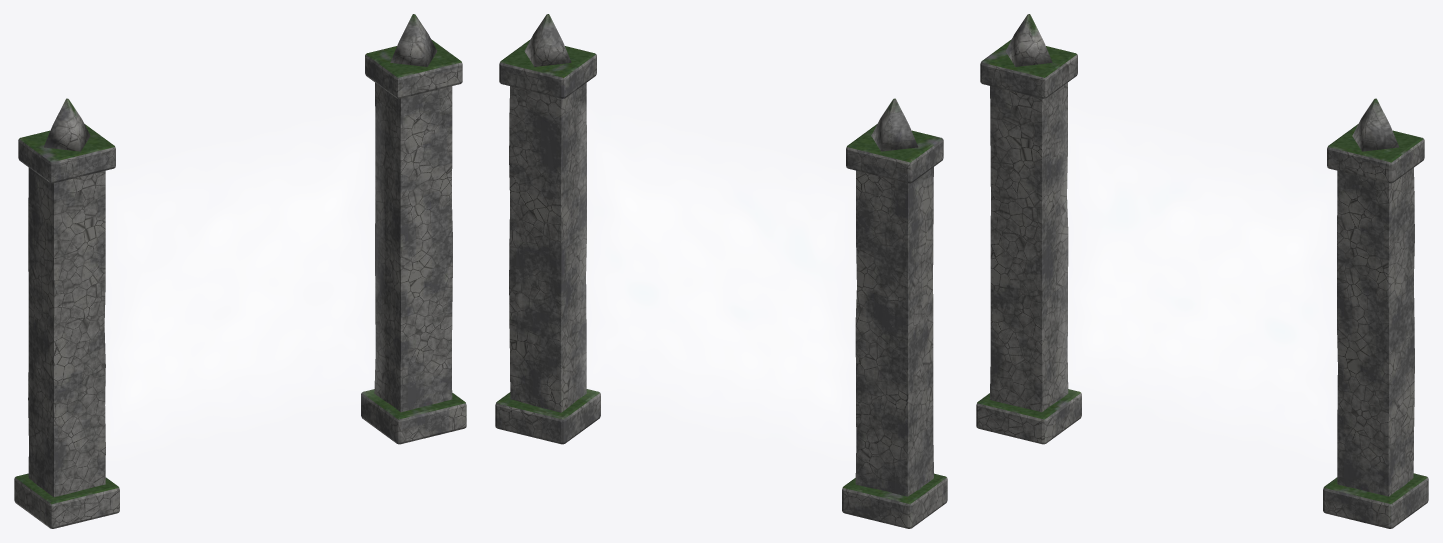
File: fog_gate.glb
3 views of the same model, side by side, from view 1: azimuth 30°, elevation 25°; view 2: azimuth 150°, elevation 25°; view 3: azimuth 330°, elevation 25° (orthographic).
Visible parts, largest first — view 1: fog_plane, gate_stone; view 2: fog_plane, gate_stone; view 3: fog_plane, gate_stone.
Boxes of the visible parts, left/top/right/bottom form: fog_plane: left=105, top=129, right=376, bottom=446; gate_stone: left=14, top=14, right=466, bottom=528; fog_plane: left=585, top=129, right=855, bottom=446; gate_stone: left=495, top=14, right=947, bottom=528; fog_plane: left=1066, top=124, right=1336, bottom=450; gate_stone: left=976, top=14, right=1428, bottom=528.
Size of the model in its own units: 5.65 by 5.3 by 0.9.
Materials: 2 (2 with a texture image).
